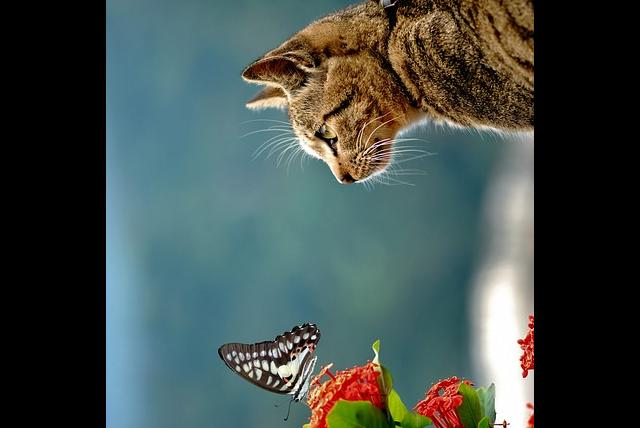cat: (239, 0, 533, 189)
